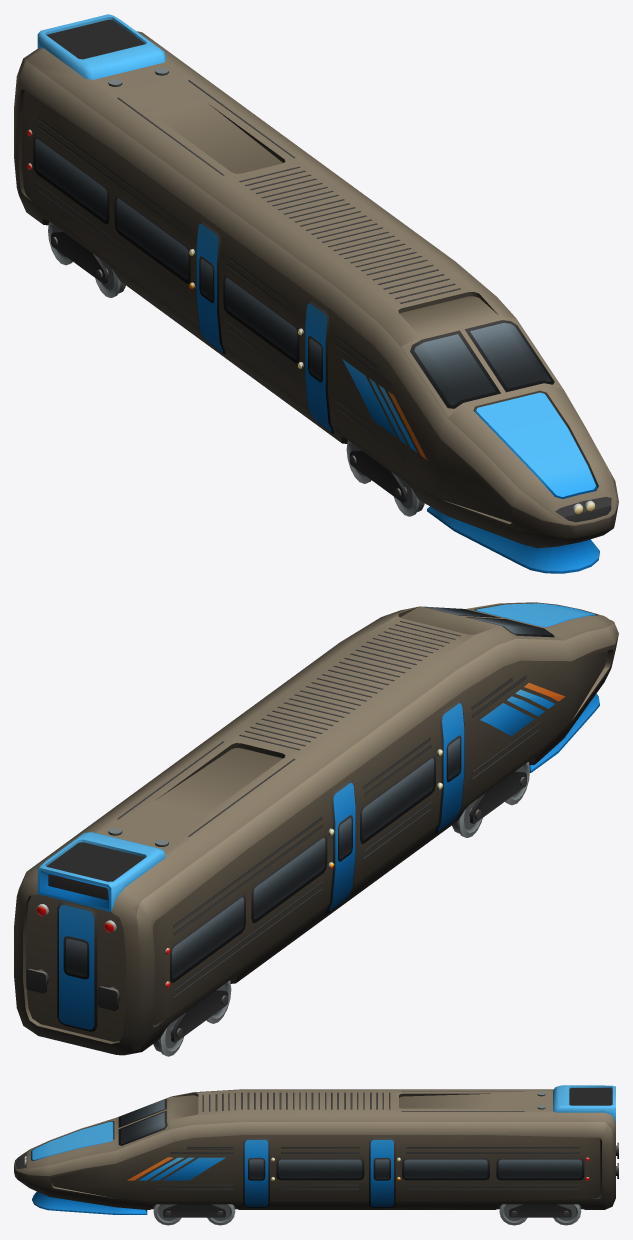
The model's file is Train_Cart_2B.fbx.
3 views of the same model, one above another, from view 1: azimuth 30°, elevation 25°; view 2: azimuth 150°, elevation 25°; view 3: azimuth 270°, elevation 25° (orthographic). The views are drawn at different scales.
Visible parts, largest first — view 1: Train_Cart_2B; view 2: Train_Cart_2B; view 3: Train_Cart_2B, Train_Cart_2B_Wheel_R.L, Train_Cart_2B_Wheel_M1.L, Train_Cart_2B_Wheel_M2.L, Train_Cart_2B_Wheel_F.L.
Boxes of the visible parts, x1,y1,x2,y2 form: Train_Cart_2B: (14, 14, 618, 573); Train_Cart_2B: (14, 602, 618, 1055); Train_Cart_2B: (14, 1085, 618, 1217); Train_Cart_2B_Wheel_R.L: (553, 1204, 581, 1225); Train_Cart_2B_Wheel_M1.L: (207, 1204, 235, 1225); Train_Cart_2B_Wheel_M2.L: (499, 1204, 527, 1225); Train_Cart_2B_Wheel_F.L: (153, 1204, 181, 1225).
Size of the model in its own units: 3.03 by 3.98 by 19.24.
